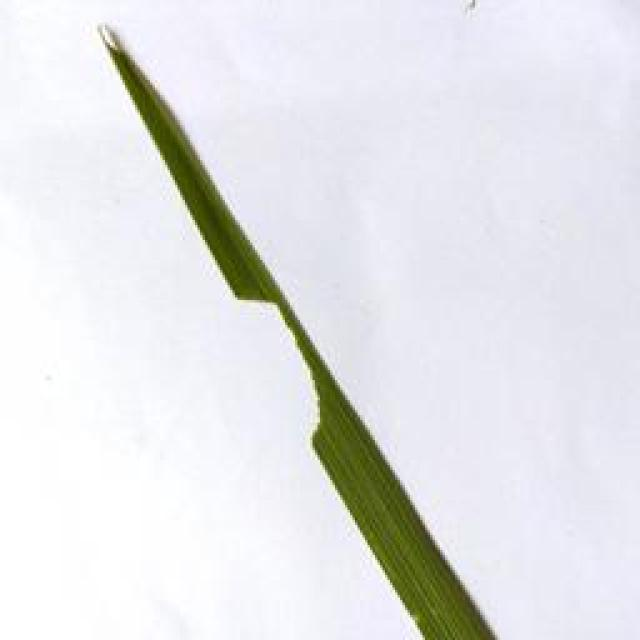Healthy-Plant: (95, 18, 503, 640)
